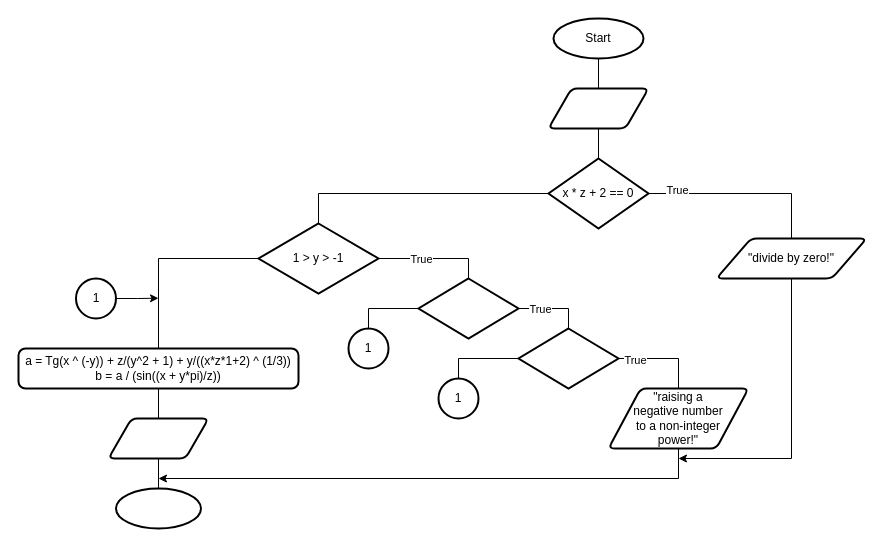
The diagram is 884 pixels wide and 546 high, and some of its shapes have lost their labels. Here are the shapes that lost their labels. From the top down, the centre of each, then its label:
At [598,108]: "x,y,z є R".
At [468,308]: "x < 0".
At [568,358]: "y != 0".
At [158,438]: "a,b".
At [158,508]: "end".
